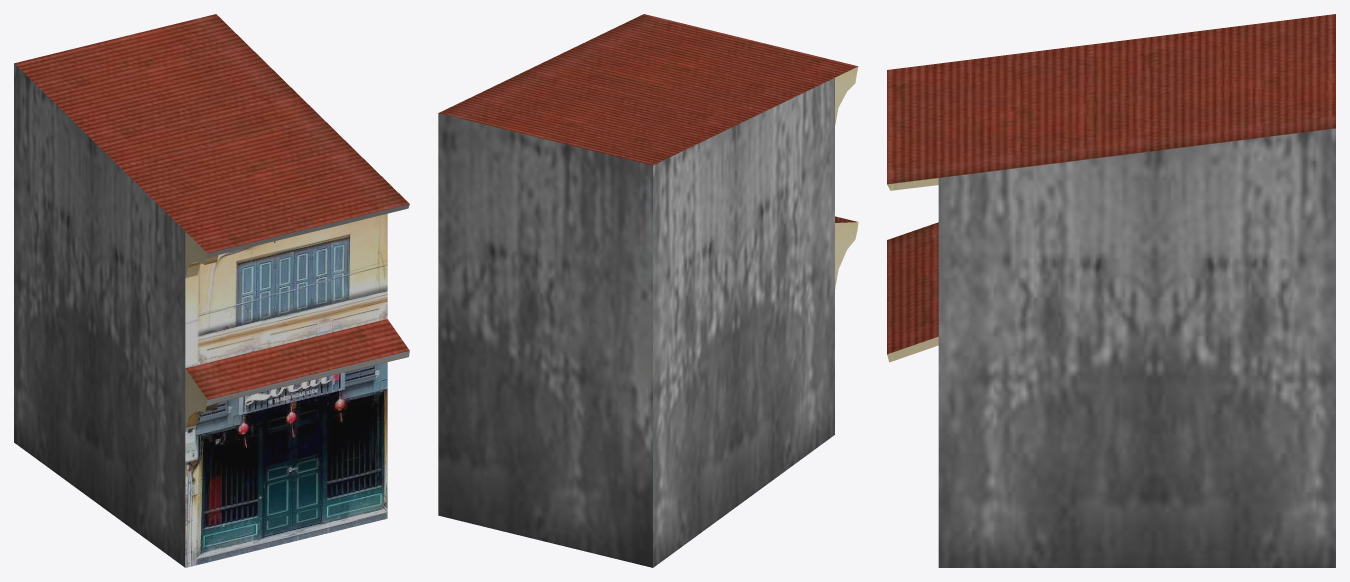
The picture shows the model from 3 angles, left to right: view 1: azimuth 30°, elevation 25°; view 2: azimuth 150°, elevation 25°; view 3: azimuth 270°, elevation 25°; orthographic projection. The views are drawn at different scales.
Visible parts, largest first — view 1: Hn917___Local; view 2: Hn917___Local; view 3: Hn917___Local.
Boxes of the visible parts, <box> form: Hn917___Local: <box>14,14,409,567</box>; Hn917___Local: <box>438,14,858,567</box>; Hn917___Local: <box>887,14,1335,567</box>.
Bounding box in the file's own units: 4.09 × 7.33 × 6.78.
1 material, 1 textured.
